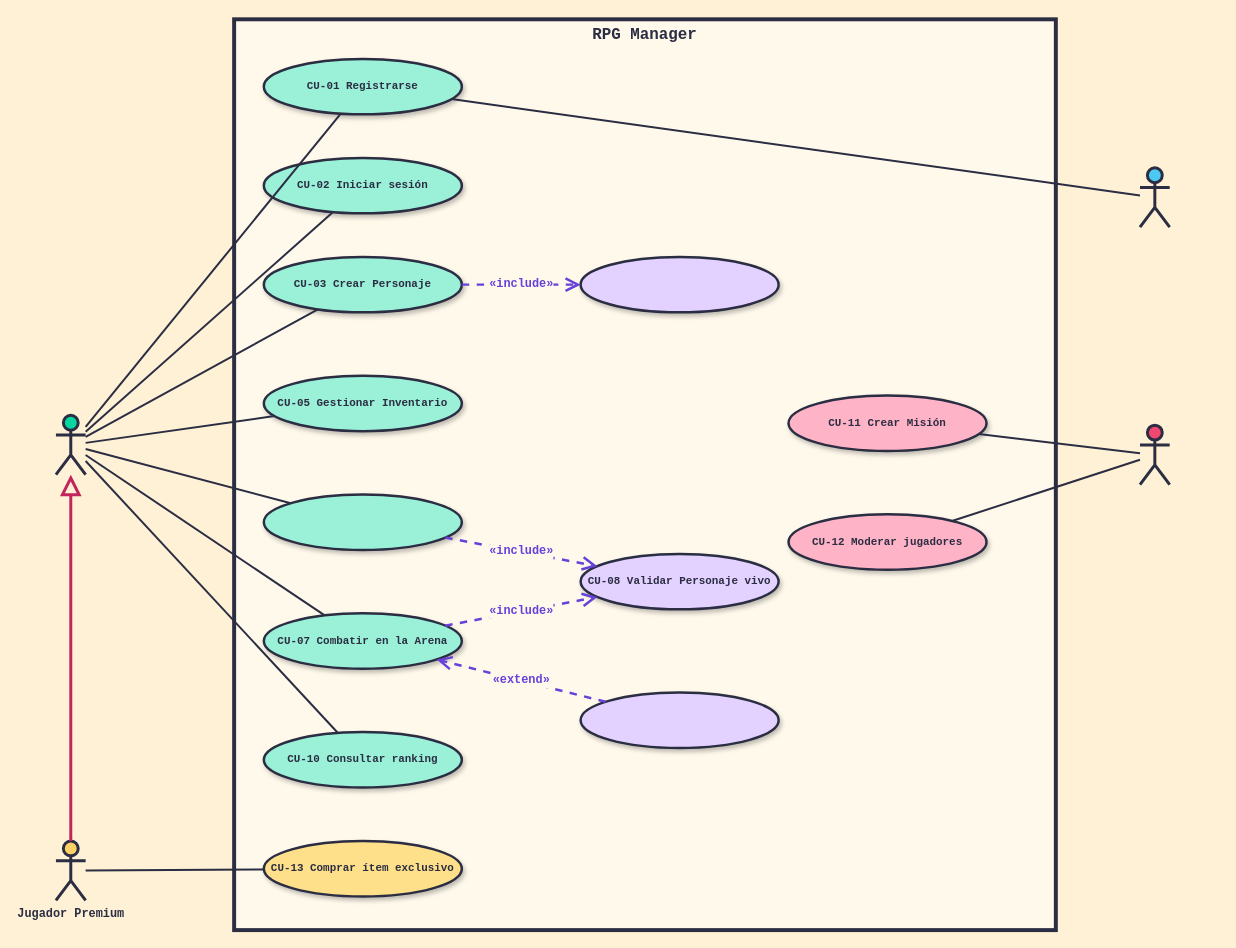
This 1236x948 diagram has some shape labels left out. The shapes that lost their labels are listed below. From the top down, each one's centre as x and y in pixels, then its label:
At point 1154,197: "Servicio de Correo".
At point 680,285: "CU-04 Elegir clase".
At point 70,444: "Jugador".
At point 1154,454: "Game Master".
At point 363,523: "CU-06 Unirse a Misión".
At point 680,721: "CU-09 Usar poción".
